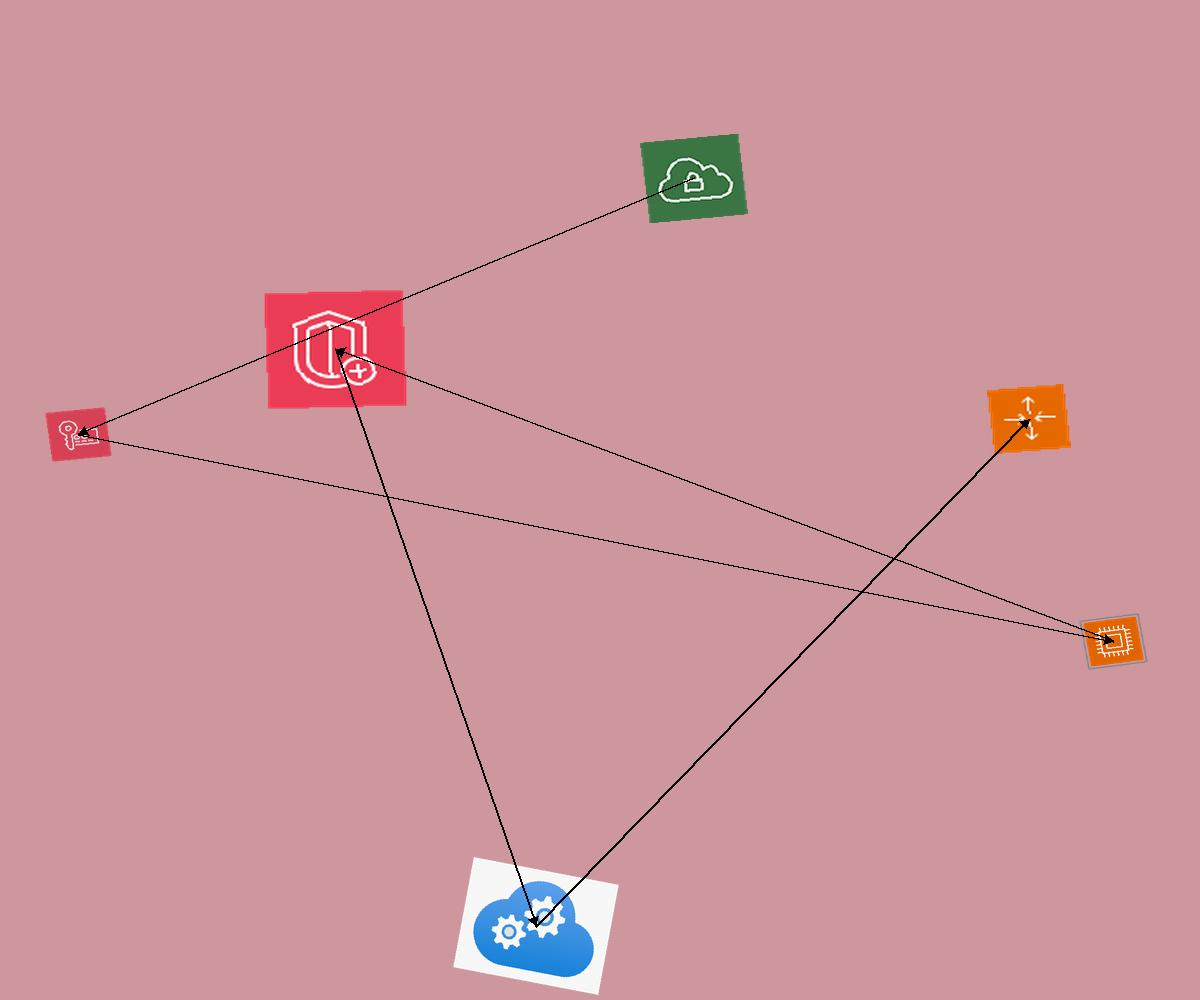AWS-Category_Compute: (1079, 613, 1148, 670)
AWS-Key-Management-Service: (45, 407, 112, 462)
AWS-Private_vpc: (639, 133, 749, 224)
AWS-Scaling-group: (987, 384, 1071, 454)
AWS-Shield: (263, 289, 408, 410)
Azure_cloud_services: (453, 857, 619, 995)
